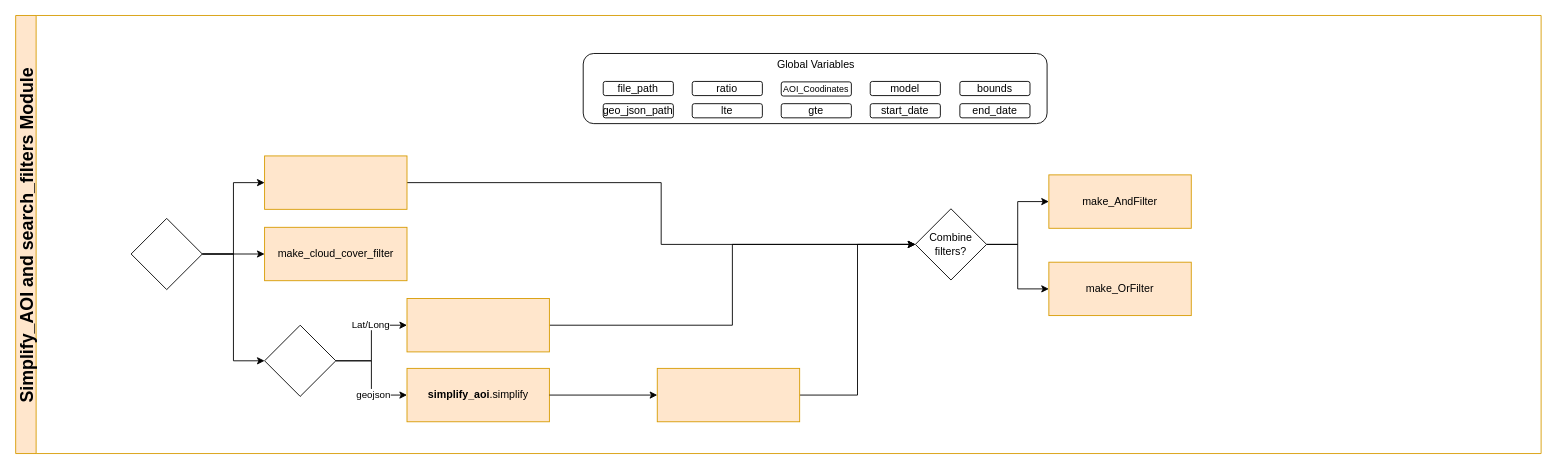
Some shapes in this 1557 by 470 pixel diagram are drawn without their labels. Each missing label, with the centre of its shape:
Filter from Bounds?: the point at 300,360
Make Filter: the point at 166,254
make_data_range_filter: the point at 335,182
make_geometry_filter_from_bounds: the point at 477,325
make_geometry_filter_from_geojson: the point at 728,394
